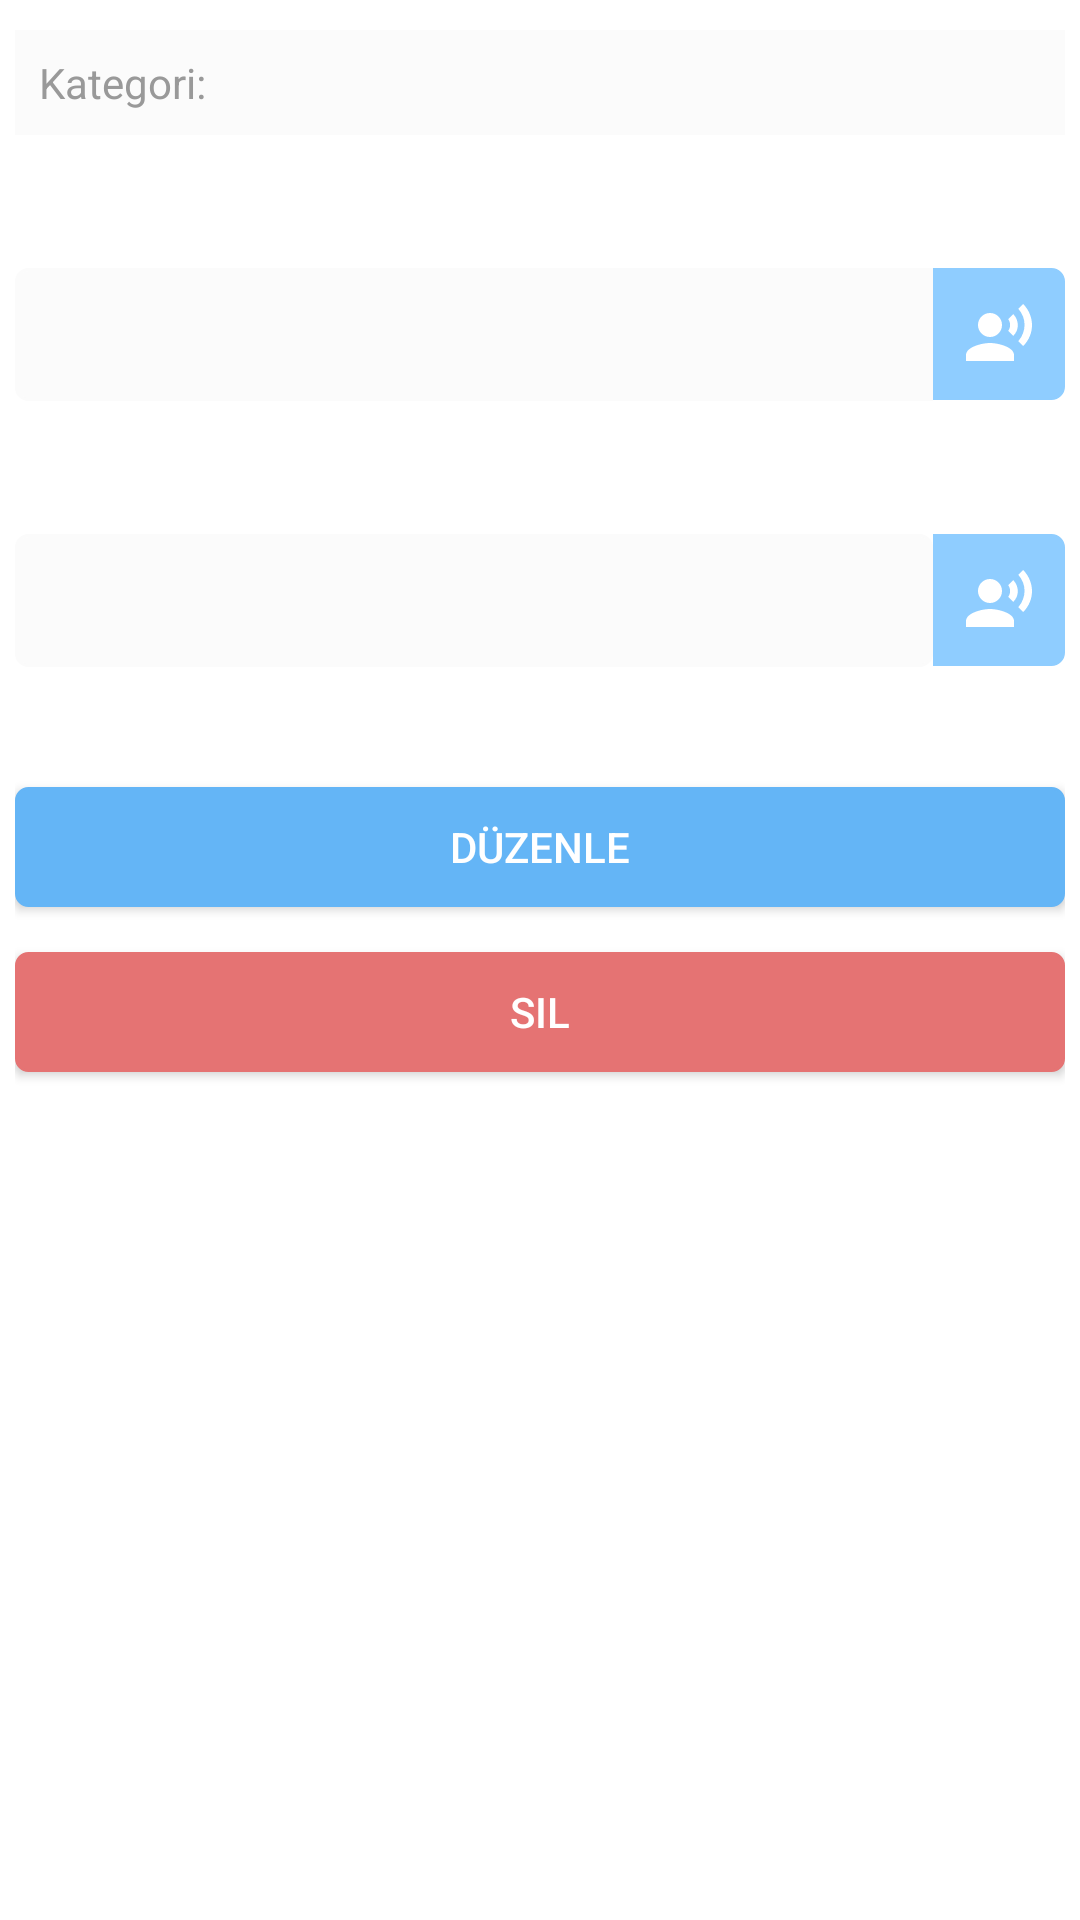

Locate icon controls on the screen. Image size 1080*1920, boxes as (x1, y1, x2, y2).
speak: (933, 268, 1065, 400), (933, 534, 1065, 666)
